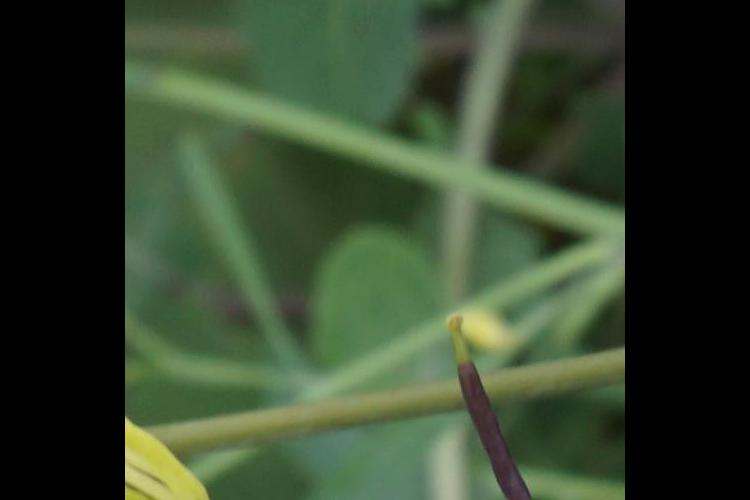pod: (429, 285, 601, 500)
